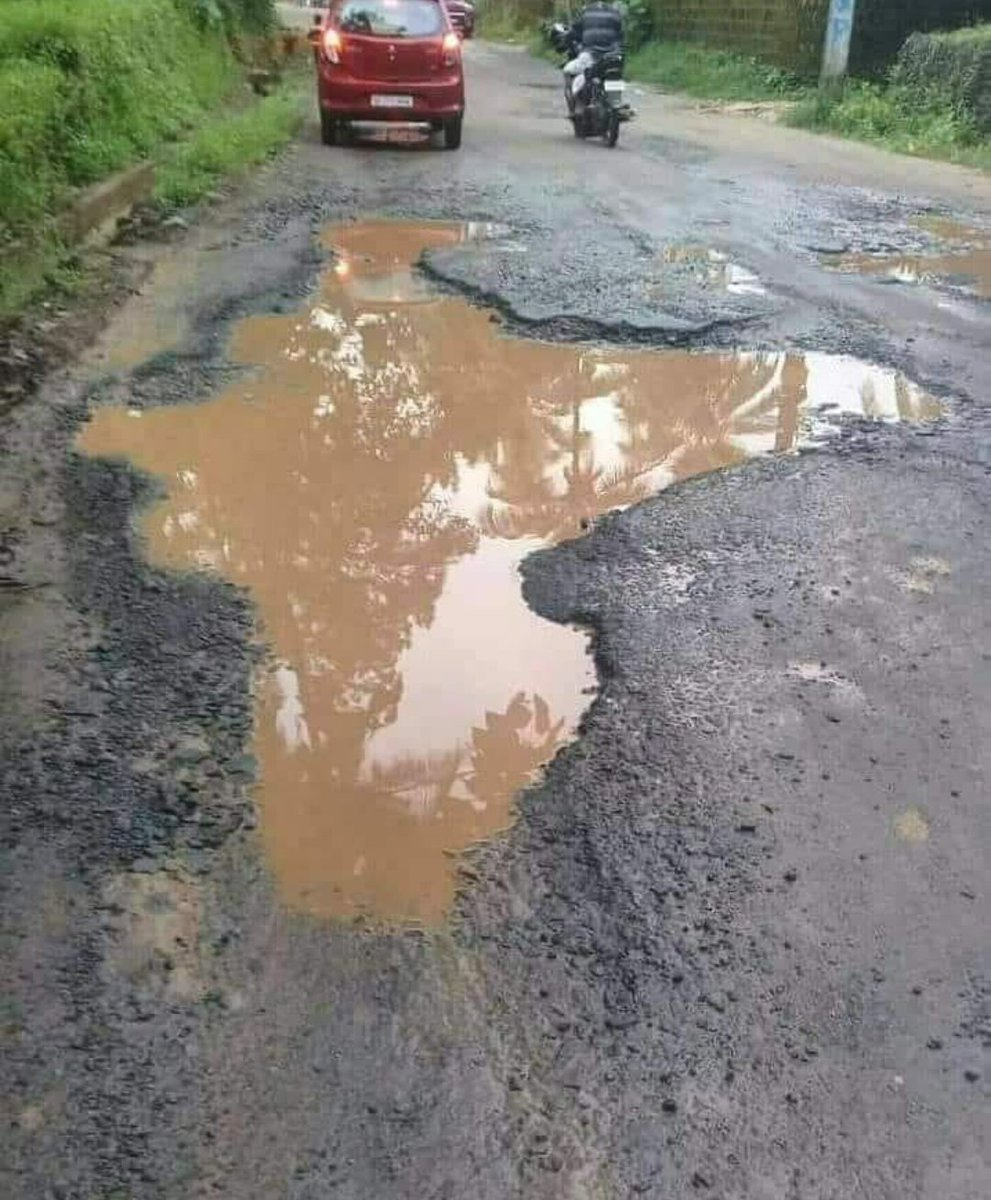pothole: (83, 199, 962, 907), (831, 197, 991, 311)
